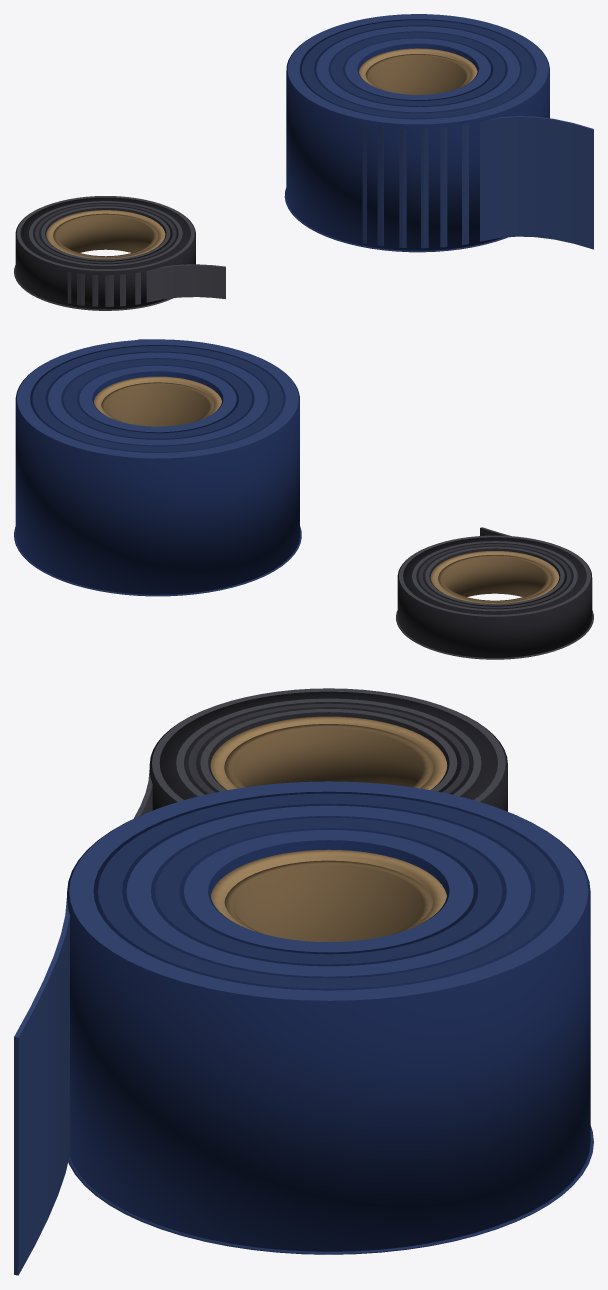
File: tape_both.glb
The picture shows the model from 3 angles, top to bottom: view 1: azimuth 30°, elevation 25°; view 2: azimuth 150°, elevation 25°; view 3: azimuth 270°, elevation 25°; orthographic projection. The views are drawn at different scales.
Visible parts, largest first — view 1: Winding.001, FreeEnd.001, Winding, TopLayer4.001, FreeEnd, TopLayer3.001, CoreInner, CoreInner.001, TopLayer2.001, TopLayer1.001, TopLayer0.001, TopLayer4 (+6 smaller); view 2: Winding.001, Winding, TopLayer4.001, TopLayer3.001, CoreInner, CoreInner.001, TopLayer2.001, TopLayer1.001, TopLayer0.001, TopLayer4, CardboardCore, CardboardCore.001 (+5 smaller); view 3: Winding.001, TopLayer4.001, TopLayer3.001, FreeEnd.001, CoreInner.001, TopLayer2.001, TopLayer1.001, CoreInner, Winding, TopLayer0.001, CardboardCore.001, CardboardCore (+5 smaller).
Boxes of the visible parts, <box> form: Winding.001: <box>286,19,549,250</box>; FreeEnd.001: <box>362,116,593,249</box>; Winding: <box>15,197,195,309</box>; TopLayer4.001: <box>287,14,548,124</box>; FreeEnd: <box>67,264,225,306</box>; TopLayer3.001: <box>302,20,534,118</box>; CoreInner: <box>53,213,158,257</box>; CoreInner.001: <box>365,54,470,94</box>; TopLayer2.001: <box>316,26,519,112</box>; TopLayer1.001: <box>330,32,505,106</box>; TopLayer0.001: <box>345,38,490,99</box>; TopLayer4: <box>16,196,194,270</box>; Winding.001: <box>15,345,299,594</box>; Winding: <box>397,537,592,657</box>; TopLayer4.001: <box>17,339,298,458</box>; TopLayer3.001: <box>32,346,283,451</box>; CoreInner: <box>438,555,551,601</box>; CoreInner.001: <box>101,382,214,426</box>; TopLayer2.001: <box>48,352,267,445</box>; TopLayer1.001: <box>63,359,251,438</box>; TopLayer0.001: <box>79,365,236,432</box>; TopLayer4: <box>399,535,590,616</box>; CardboardCore: <box>430,551,559,603</box>; CardboardCore.001: <box>94,376,221,420</box>; Winding.001: <box>67,791,590,1251</box>; TopLayer4.001: <box>69,781,588,1000</box>; TopLayer3.001: <box>98,793,559,988</box>; FreeEnd.001: <box>14,898,69,1275</box>; CoreInner.001: <box>224,860,433,941</box>; TopLayer2.001: <box>126,805,530,976</box>; TopLayer1.001: <box>155,817,502,964</box>; CoreInner: <box>224,724,433,788</box>; Winding: <box>149,691,507,811</box>; TopLayer0.001: <box>184,830,473,952</box>; CardboardCore.001: <box>210,849,446,931</box>; CardboardCore: <box>210,716,447,789</box>.
Bounding box in the file's own units: 0.2112 × 0.0581 × 0.1052.
